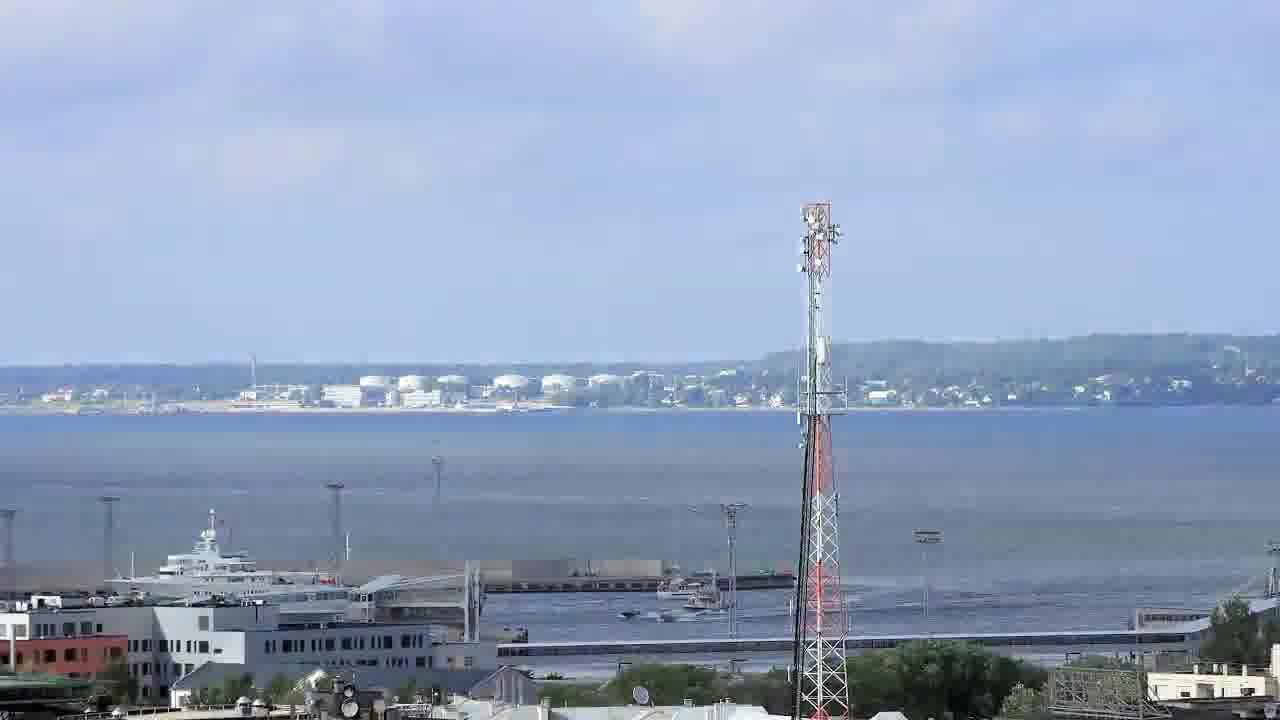type-0: (682, 587, 739, 620)
type-1: (645, 570, 738, 605)
type-4: (649, 605, 680, 636), (607, 601, 640, 630)
